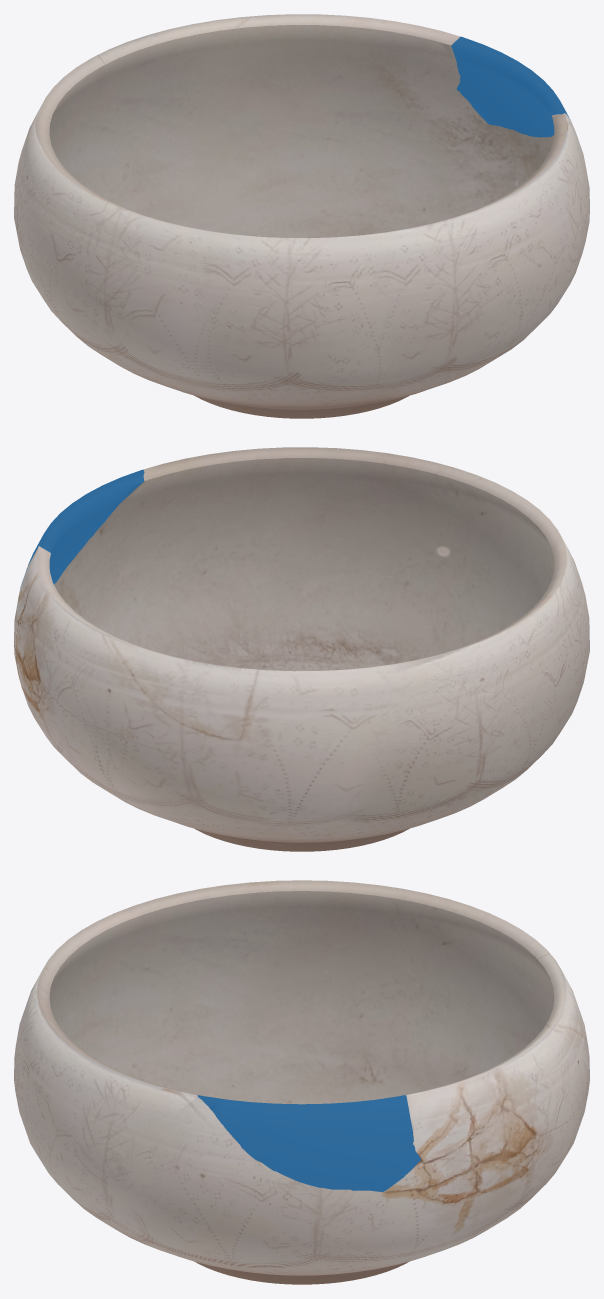
The model's file is vazo_3.glb.
3 views of the same model, one above another, from view 1: azimuth 30°, elevation 25°; view 2: azimuth 150°, elevation 25°; view 3: azimuth 270°, elevation 25° (orthographic).
Visible parts, largest first — view 1: VAZO_SPASMENO, KOMMATAKI; view 2: VAZO_SPASMENO, KOMMATAKI; view 3: VAZO_SPASMENO, KOMMATAKI.
Part boxes in pixels (x1,y1,x2,y2): VAZO_SPASMENO: [14, 14, 589, 418]; KOMMATAKI: [451, 36, 569, 137]; VAZO_SPASMENO: [14, 447, 589, 851]; KOMMATAKI: [20, 469, 144, 587]; VAZO_SPASMENO: [14, 880, 589, 1284]; KOMMATAKI: [197, 1095, 420, 1191].
Bounding box in the file's own units: 1.5 × 0.6759 × 1.5.
2 materials, 1 textured.
